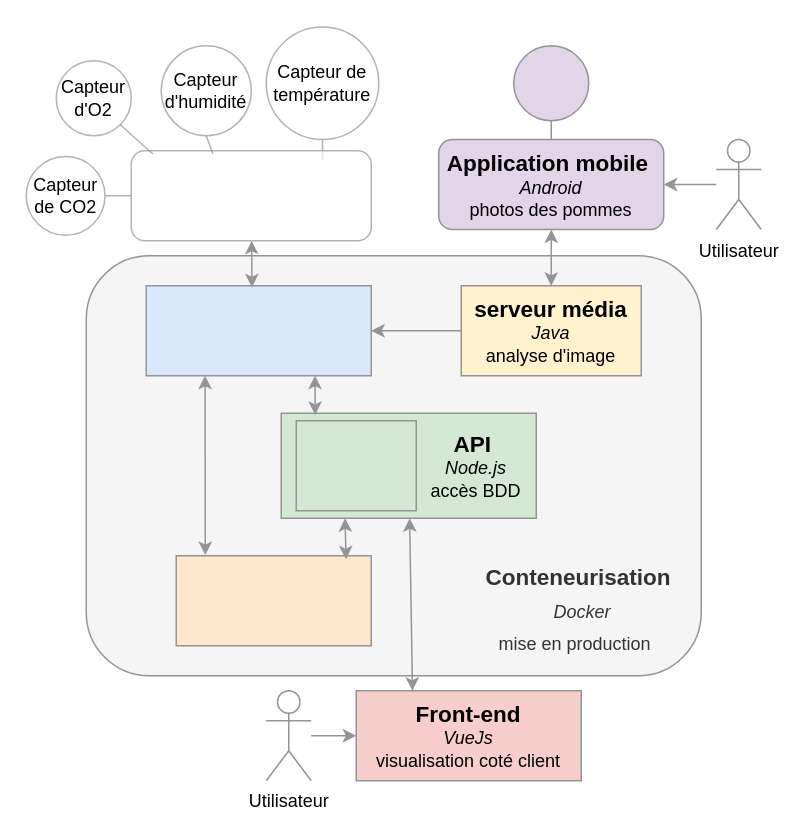
The diagram is 804 pixels wide and 837 high, and some of its shapes have lost their labels. Each missing label, with the centre of its shape:
"base de données MongoDB stockage" goes at pixel 273 600.
"Caméra" goes at pixel 550 82.
"IA python prédictions" goes at pixel 355 465.
"Microcontrôleurs Arduino conditions atmosphériques" goes at pixel 250 195.
"serveur TCP Java centralisation données" goes at pixel 258 330.
